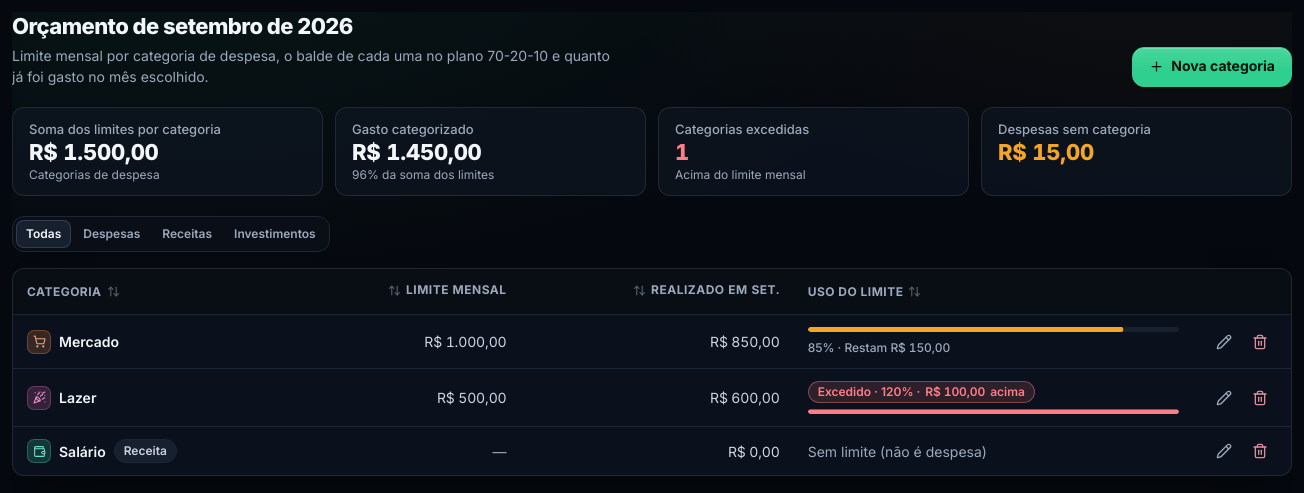
Test case: CategoriesPage › shows budget status with text, the month competency and filters by kind
Expected: the column heading "Realizado em set." is shown, [520,269,794,314]
Expected: the text "Sem limite (não é despesa)" is shown, [808,443,987,460]
Click the radio button labelled "Receitas".
click(187, 234)  # box [152,220,222,248]
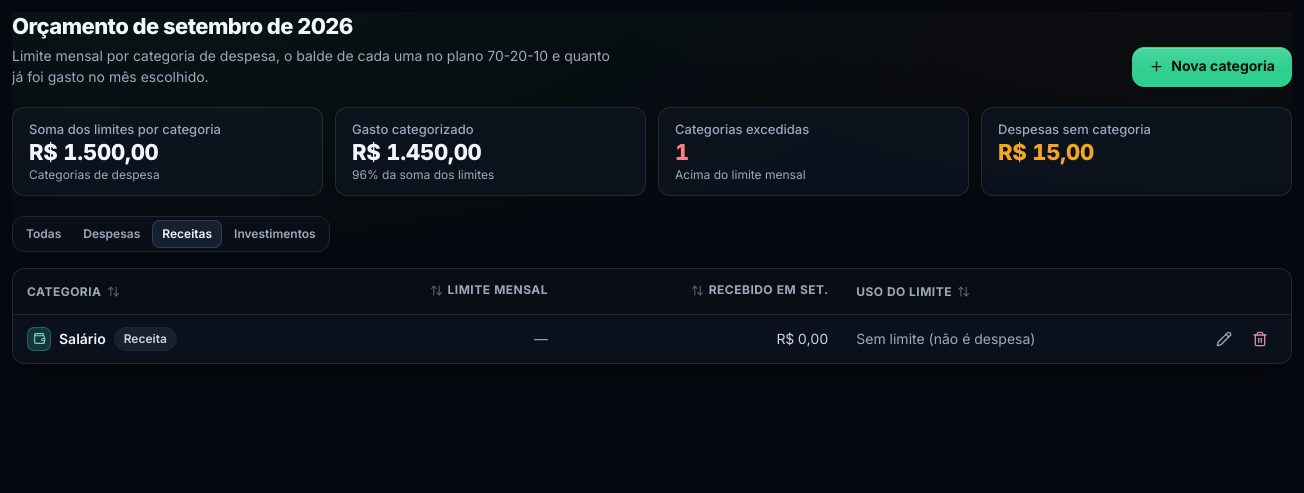
Expected: the text "Salário" is shown, [59,328,106,349]
Expected: the text "Mercado" is gone
